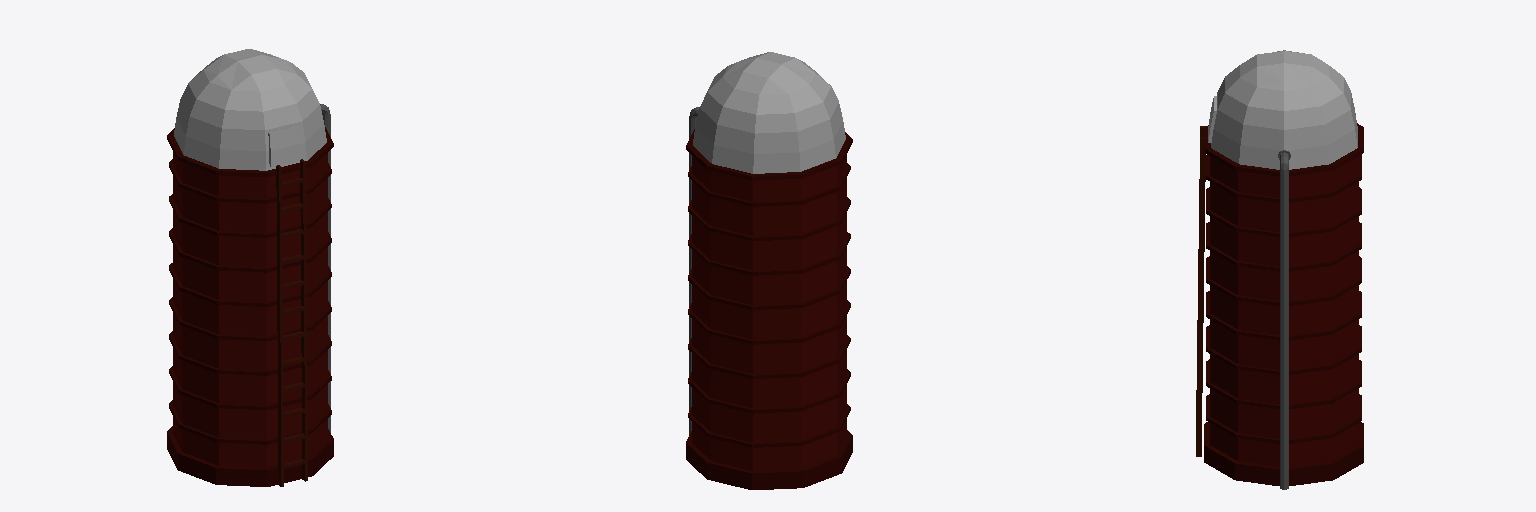
File: Silo.obj
3 renders of one model, left to right at view 1: azimuth 30°, elevation 25°; view 2: azimuth 150°, elevation 25°; view 3: azimuth 270°, elevation 25°, orthographic.
Visible parts, largest first — view 1: Silo_Cylinder.007; view 2: Silo_Cylinder.007; view 3: Silo_Cylinder.007.
Boxes of the visible parts, x1=… form: Silo_Cylinder.007: x1=167, y1=49, x2=333, y2=486; Silo_Cylinder.007: x1=686, y1=52, x2=852, y2=489; Silo_Cylinder.007: x1=1196, y1=50, x2=1363, y2=489.
Bounding box in the file's own units: 3.67 × 9.07 × 3.51.